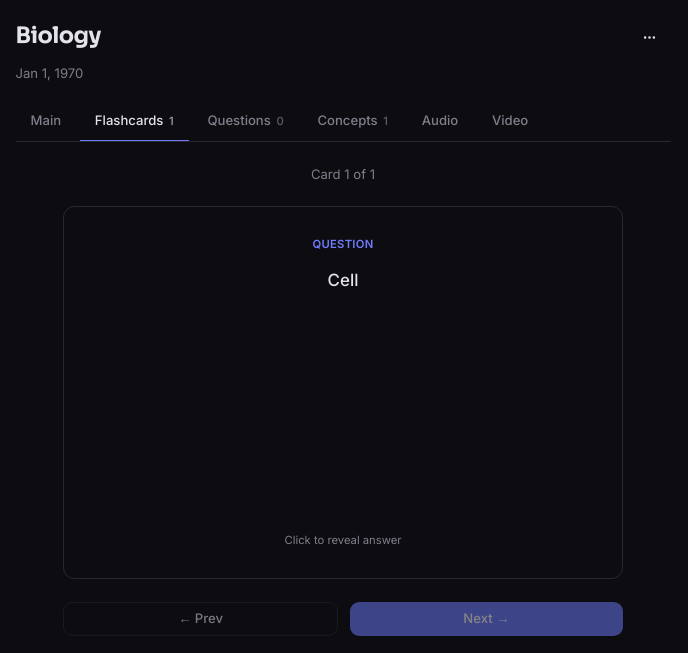
it: PrepView › shows the owner menu in owner mode
Click the button named "Prep actions": (650, 37) [629, 17, 671, 58]
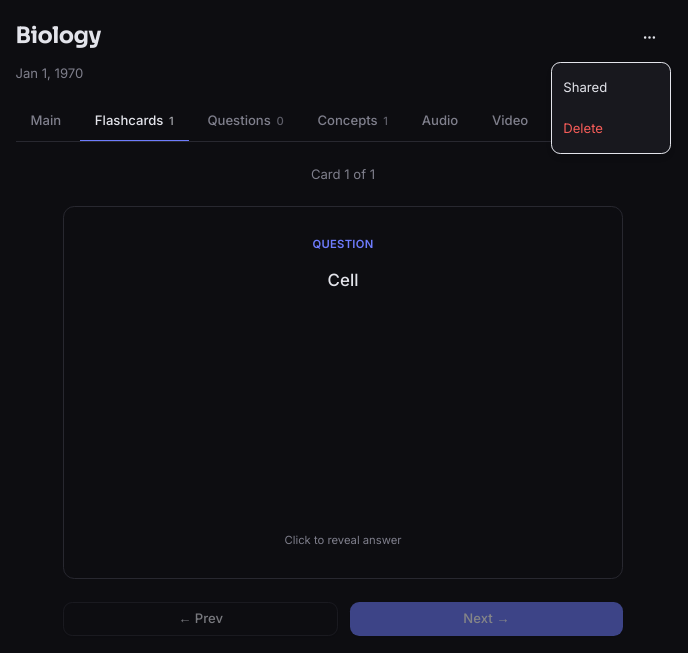
expect the menu item "Delete" is shown: met, box [563, 120, 603, 136]
